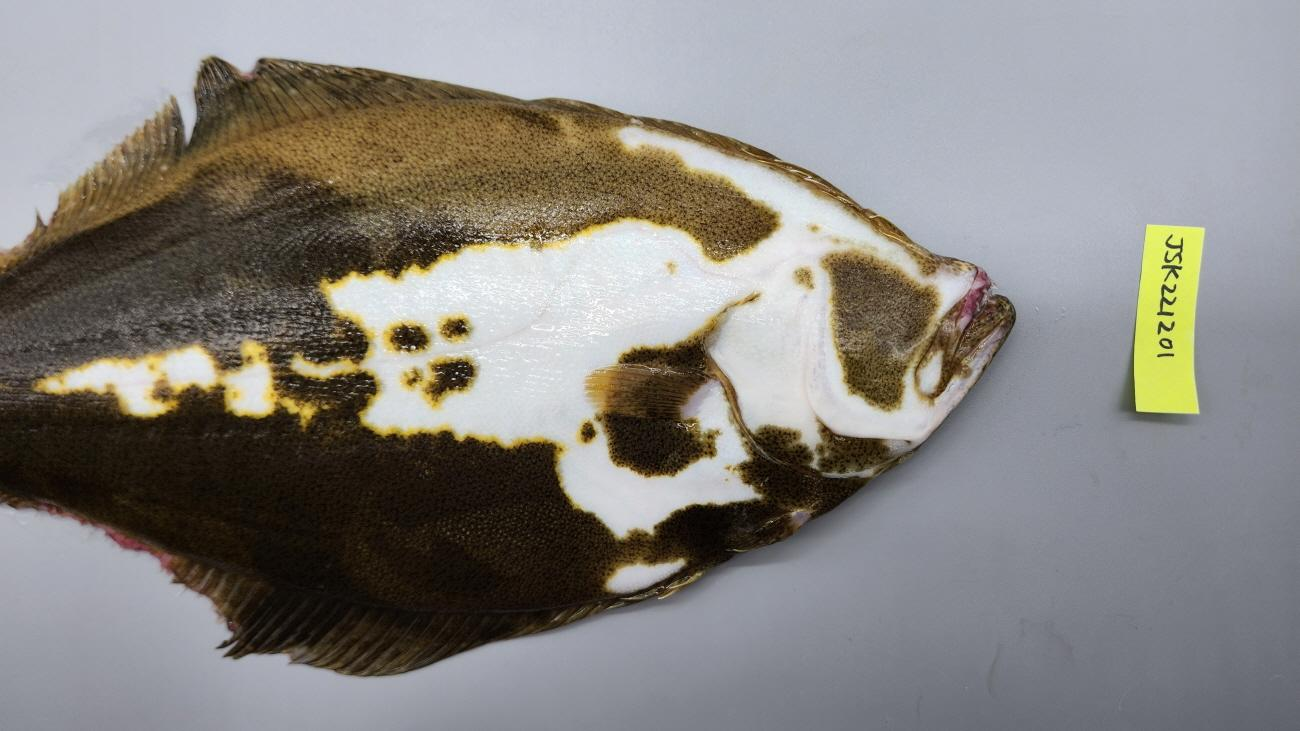VIMOU: (958, 271, 992, 319)
